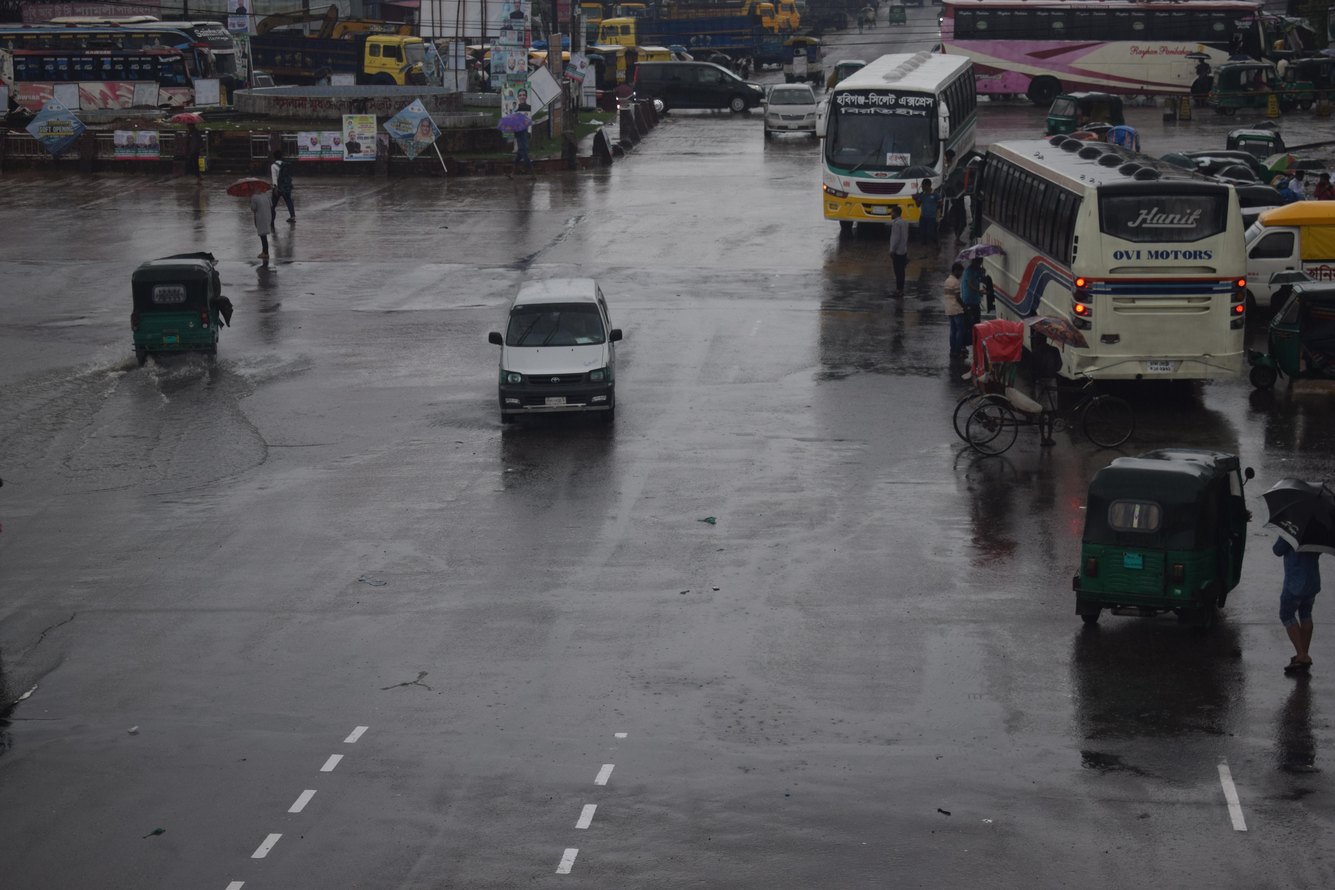Bus: (928, 113, 1267, 409), (791, 39, 1005, 268), (915, 15, 1302, 128), (0, 0, 264, 146)
Car: (932, 291, 1131, 492), (466, 254, 673, 446), (613, 43, 775, 146), (732, 58, 840, 158), (745, 69, 829, 156)
Truck: (243, 3, 449, 122)
